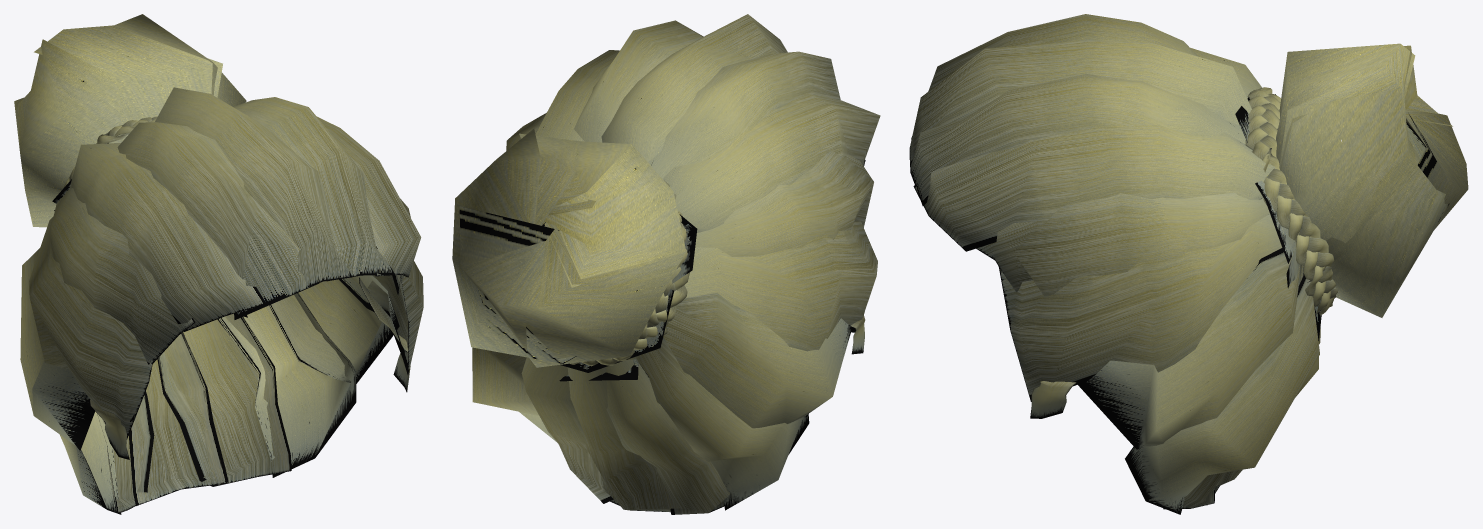
The model's file is bun.glb.
3 views of the same model, side by side, from view 1: azimuth 30°, elevation 25°; view 2: azimuth 150°, elevation 25°; view 3: azimuth 270°, elevation 25° (orthographic). The views are drawn at different scales.
Parts seen in each view (by area): view 1: bun_blonde-wig_bun_blonde; view 2: bun_blonde-wig_bun_blonde; view 3: bun_blonde-wig_bun_blonde.
Boxes of the visible parts, <box> form: bun_blonde-wig_bun_blonde: <box>14,14,423,514</box>; bun_blonde-wig_bun_blonde: <box>452,14,880,514</box>; bun_blonde-wig_bun_blonde: <box>909,14,1468,514</box>.
Size of the model in its own units: 0.1693 by 0.1932 by 0.2194.
Materials: 1 (1 with a texture image).
